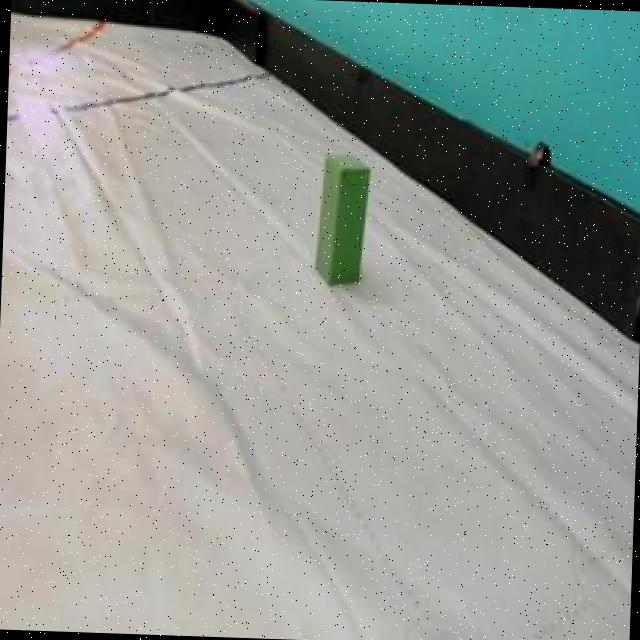greenbox: (314, 154, 372, 286)
